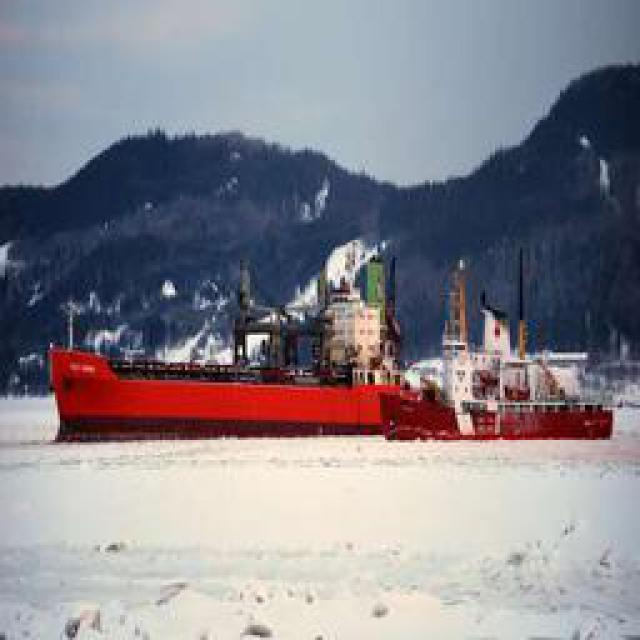Ship: (42, 266, 427, 449), (371, 338, 631, 450)
